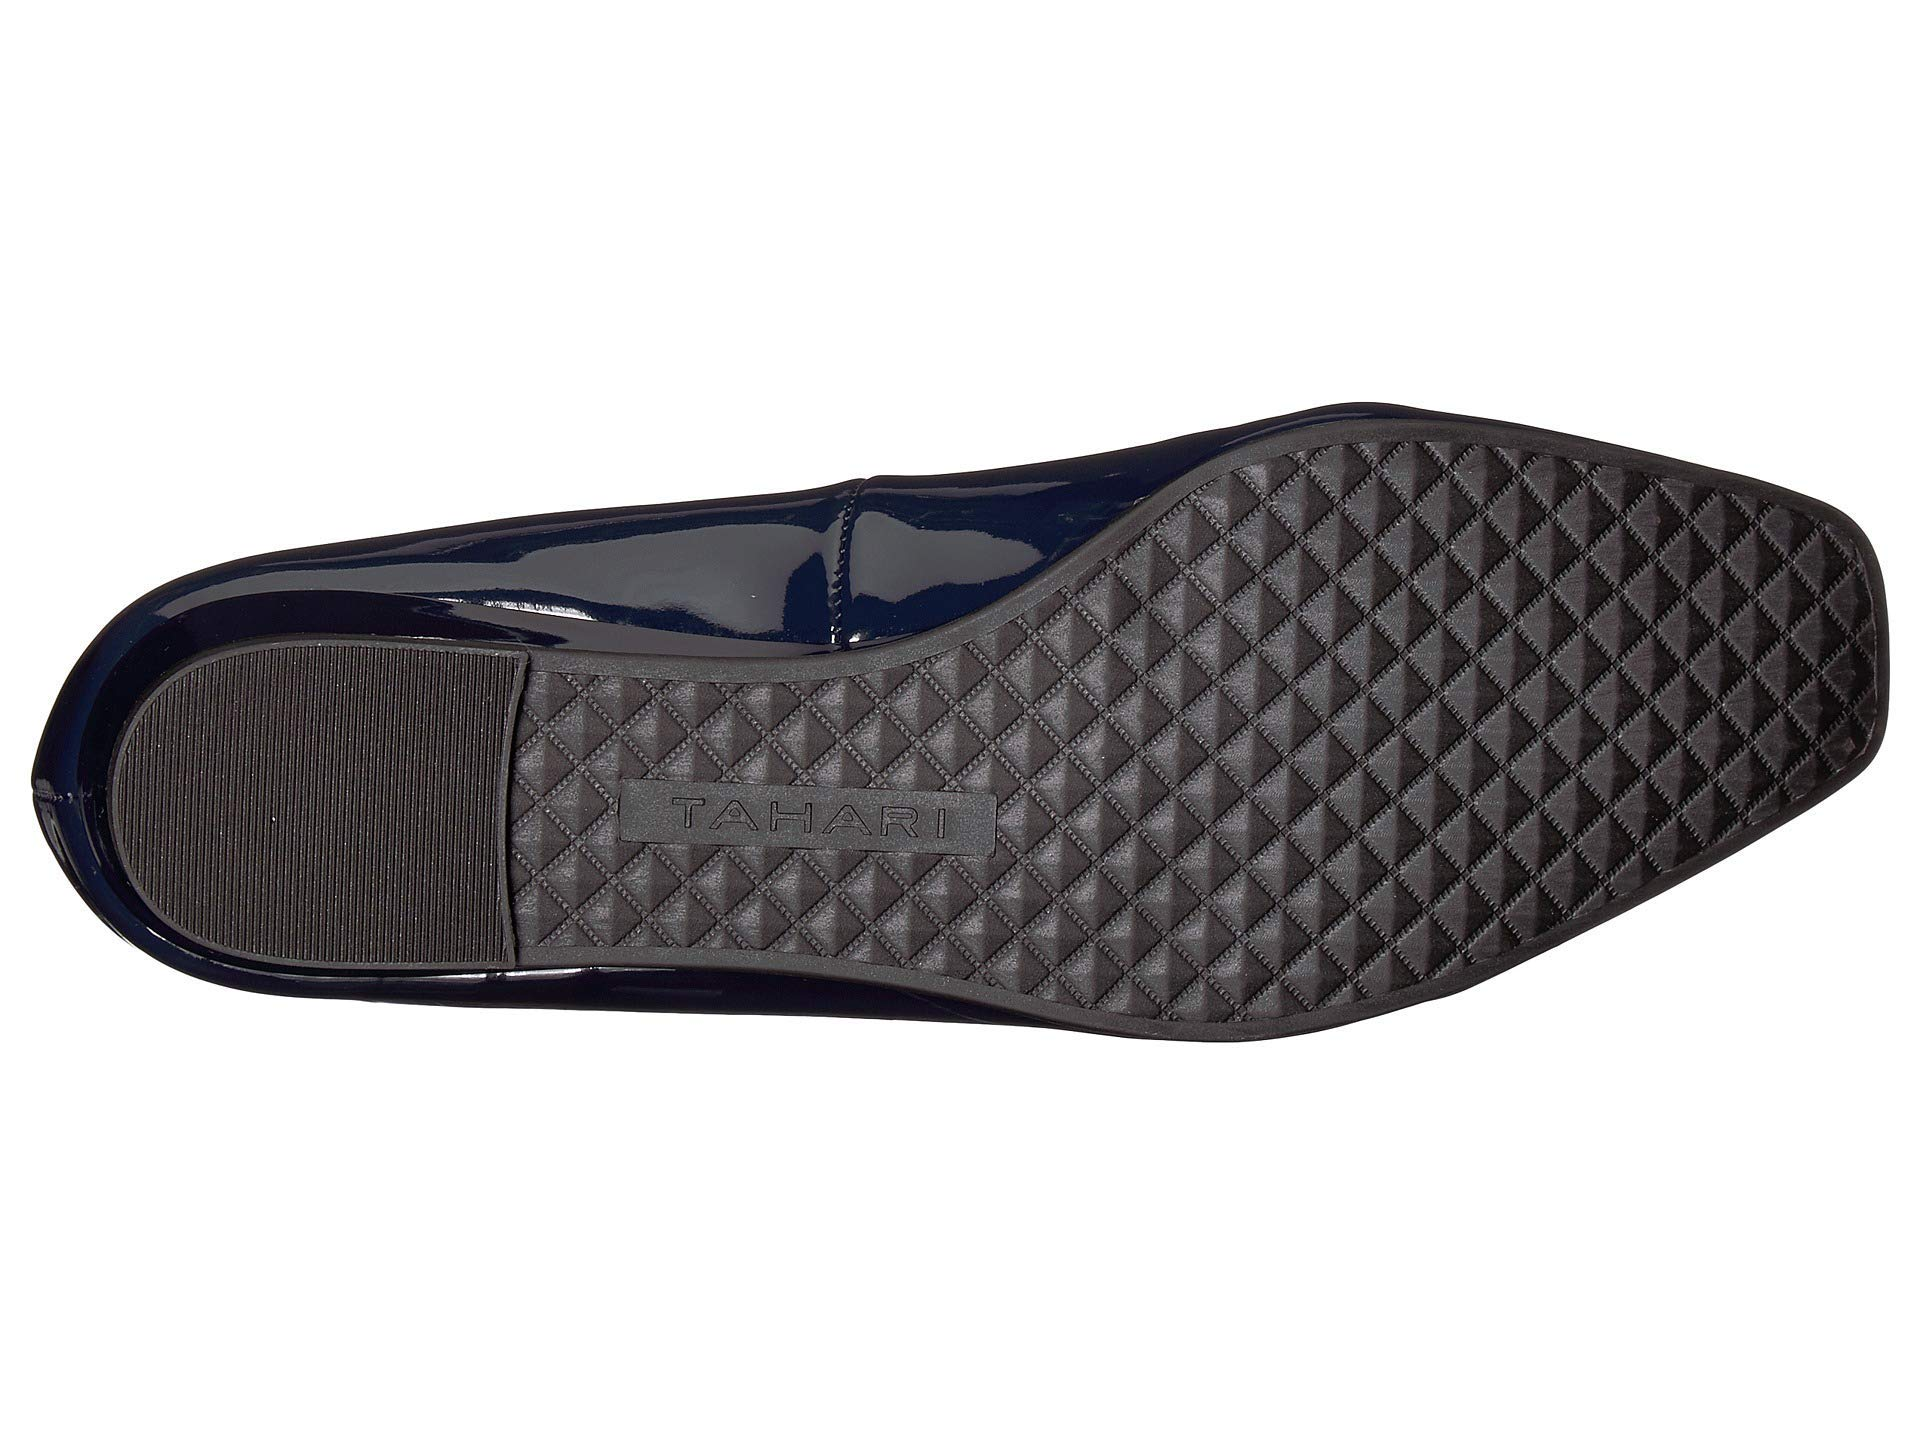line: (183, 690, 426, 954)
quad: (1123, 601, 1522, 971), (596, 670, 1025, 991)
text: (596, 670, 1025, 991)
triangle: (1123, 601, 1522, 971), (596, 670, 1025, 991)
